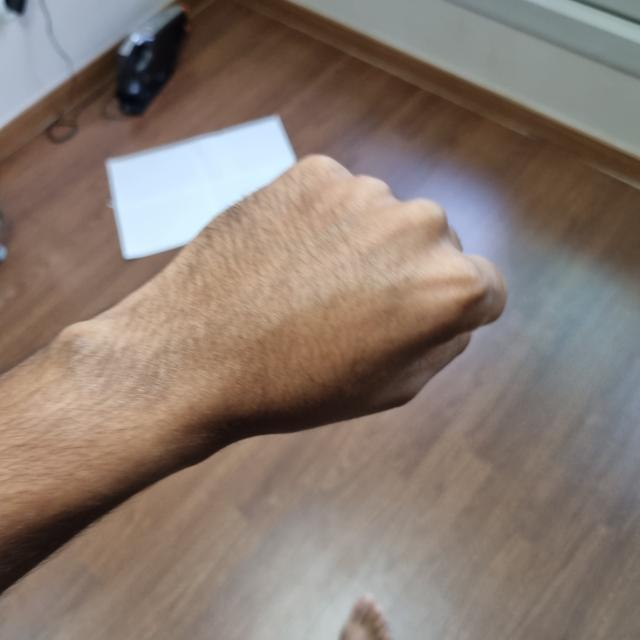Rock: (136, 162, 497, 447)
